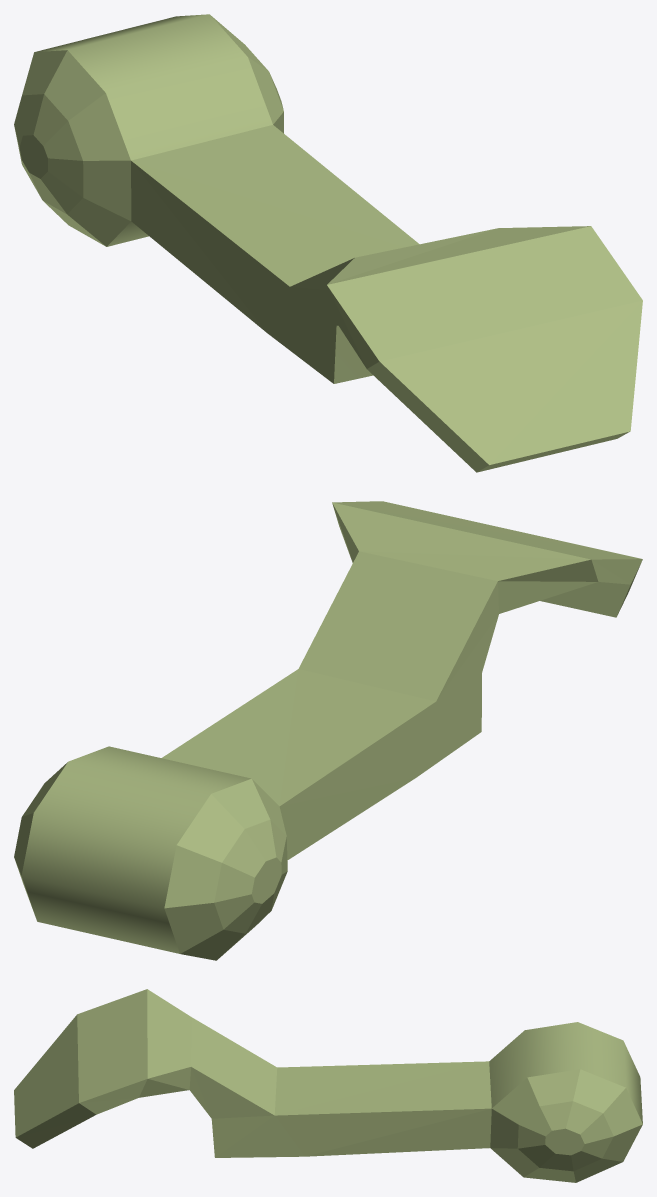
The model's file is SpiderLegRightBackA.FBX.
The picture shows the model from 3 angles, top to bottom: view 1: azimuth 30°, elevation 25°; view 2: azimuth 150°, elevation 25°; view 3: azimuth 270°, elevation 25°; orthographic projection. The views are drawn at different scales.
Parts seen in each view (by area): view 1: SpiderLegRightBackA; view 2: SpiderLegRightBackA; view 3: SpiderLegRightBackA.
Part boxes in pixels (x1,y1,x2,y2): SpiderLegRightBackA: [14, 14, 642, 472]; SpiderLegRightBackA: [14, 501, 642, 960]; SpiderLegRightBackA: [14, 989, 642, 1182].
Size of the model in its own units: 88.92 by 275 by 61.26.
